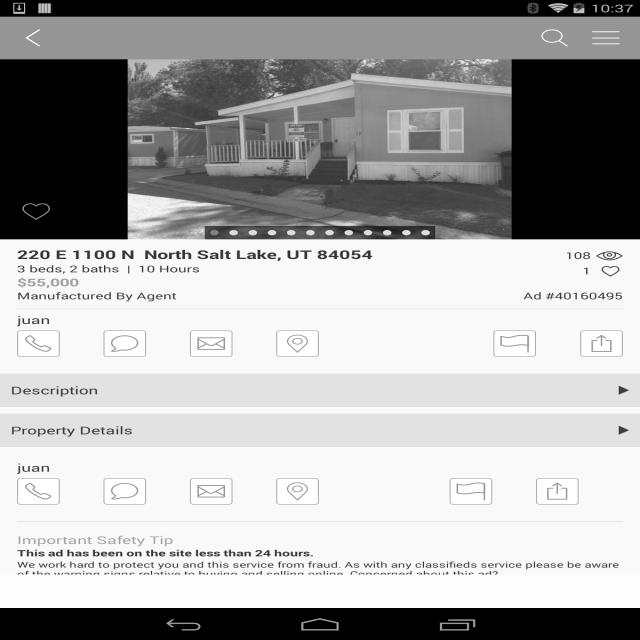ImageButton: (17, 330, 60, 357), (276, 330, 319, 357), (493, 330, 536, 357), (580, 330, 623, 357), (17, 478, 60, 505), (276, 478, 319, 505), (536, 478, 579, 505), (104, 330, 146, 357), (190, 330, 232, 357), (104, 478, 146, 505), (190, 478, 232, 505), (450, 478, 492, 505), (17, 200, 56, 223)
ImageView: (0, 59, 640, 240), (596, 251, 623, 261), (26, 29, 40, 47), (602, 266, 620, 277), (619, 386, 629, 395), (619, 426, 629, 435), (210, 230, 219, 235), (229, 230, 238, 235), (306, 230, 315, 235), (325, 230, 334, 235), (402, 230, 411, 235), (421, 230, 430, 235), (249, 230, 257, 235), (268, 230, 276, 235), (287, 230, 295, 235), (345, 230, 353, 235), (364, 230, 372, 235), (383, 230, 391, 235)
TextView: (17, 559, 623, 579), (17, 246, 549, 262), (17, 533, 623, 547), (17, 547, 623, 559), (17, 289, 523, 302), (17, 262, 200, 275), (11, 423, 133, 437), (580, 22, 632, 54), (529, 22, 580, 54), (523, 289, 623, 302), (11, 383, 98, 397), (17, 275, 79, 289), (17, 460, 50, 475), (17, 313, 50, 327), (565, 249, 591, 262), (582, 264, 591, 277)
